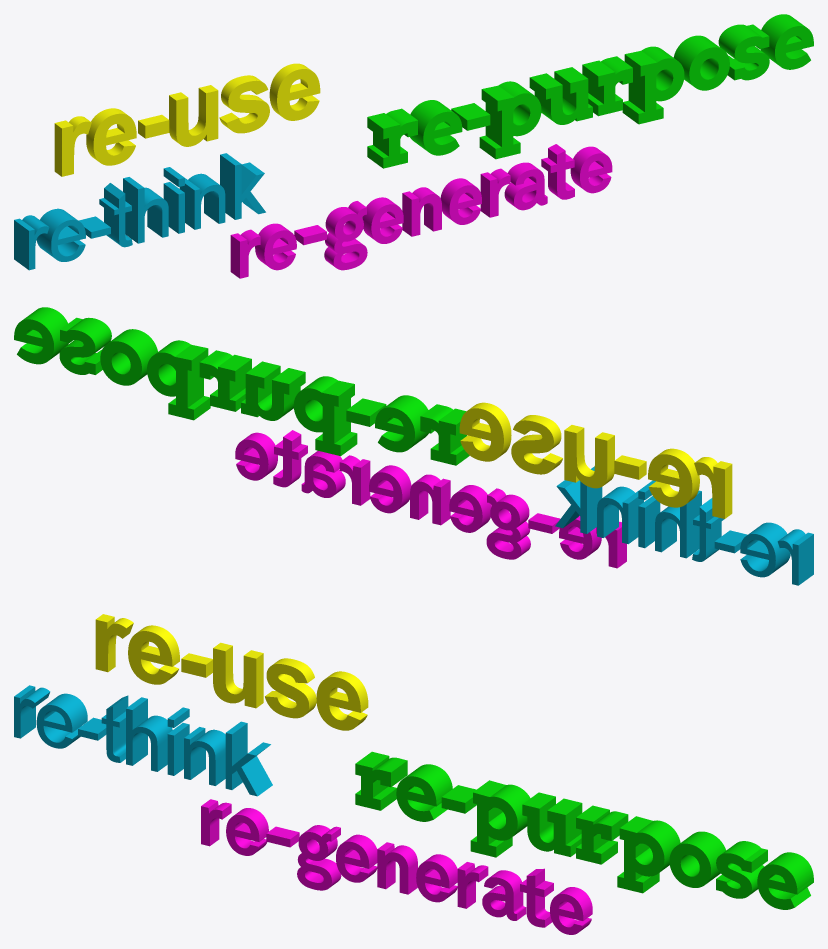
The model's file is RE-WORDS.gltf.
3 views of the same model, one above another, from view 1: azimuth 30°, elevation 25°; view 2: azimuth 150°, elevation 25°; view 3: azimuth 330°, elevation 25° (orthographic). The views are drawn at different scales.
Parts seen in each view (by area): view 1: AR WORDS, re-think; view 2: AR WORDS, re-think; view 3: AR WORDS, re-think.
Part boxes in pixels (left/top/right/bottom): AR WORDS: left=54, top=14, right=813, bottom=278; re-think: left=14, top=153, right=265, bottom=270; AR WORDS: left=14, top=307, right=732, bottom=568; re-think: left=555, top=466, right=813, bottom=585; AR WORDS: left=95, top=614, right=813, bottom=934; re-think: left=14, top=685, right=272, bottom=796.
Bounding box in the file's own units: 6.51 × 1.41 × 0.6571.
